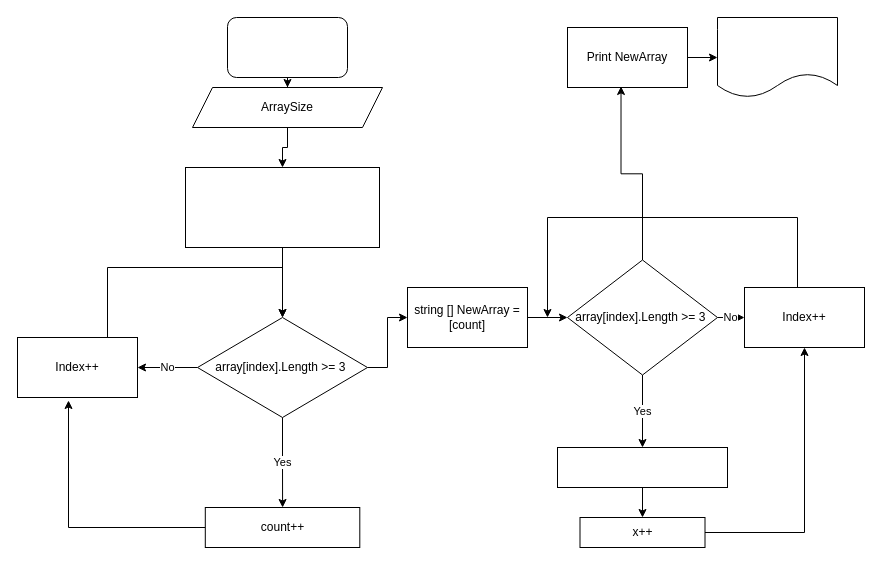
Some shapes in this 882 by 565 pixel diagram are drawn without their labels. The centre of each missing label's shape, as x and y in pixels:
Finish: point 777,57
NewArray[x]=array[index]: point 642,467
Start: point 287,47
string [] array = [ArraySize] int count = 0 int index=0 int x=0: point 282,207
